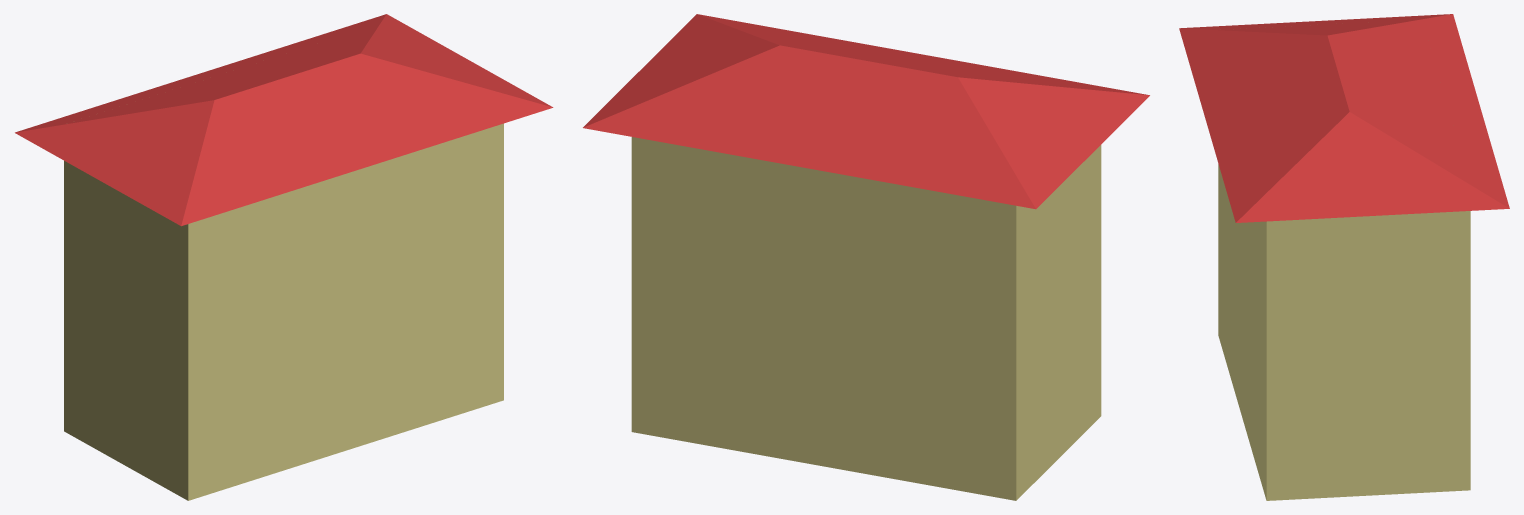
3 views of the same model, side by side, from view 1: azimuth 30°, elevation 25°; view 2: azimuth 150°, elevation 25°; view 3: azimuth 270°, elevation 25° (orthographic). The views are drawn at different scales.
Size of the model in its own units: 13.99 by 9.35 by 10.6.
